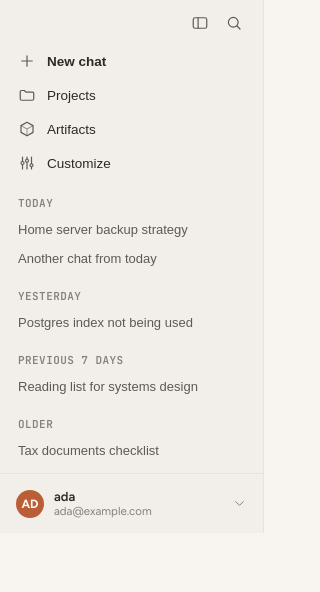
Scenario: Sidebar › typing in the search input filters recents to matching titles
Click the button titled "Search" at (234, 23), box 219,8 -> 249,38
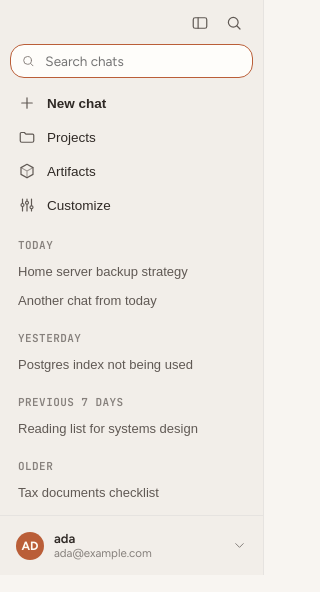
Type "Postgres" into the field with placeholder "Search chats" at (143, 61), box 43,52 -> 242,70
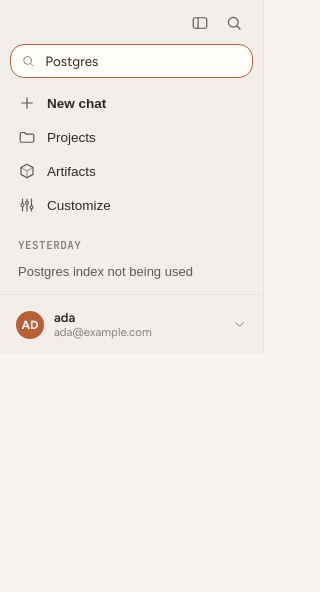
Expected: the button "Postgres index not being used" is shown, 8,257 -> 255,286
Result: the button "Home server backup strategy" is gone
